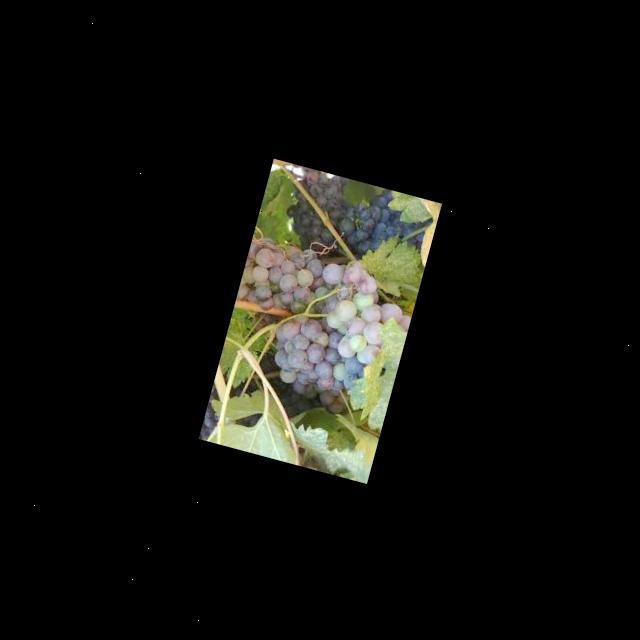grape: (253, 242, 404, 398)
